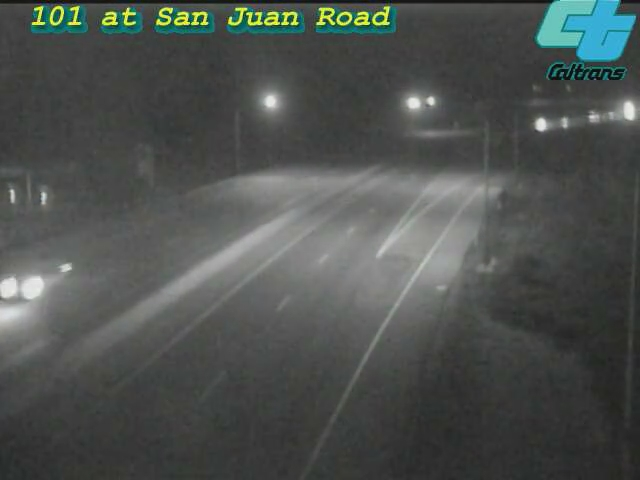vehicle: (1, 240, 73, 320), (587, 91, 637, 141), (568, 92, 618, 142), (542, 98, 592, 148), (511, 101, 561, 151), (602, 84, 640, 134)
